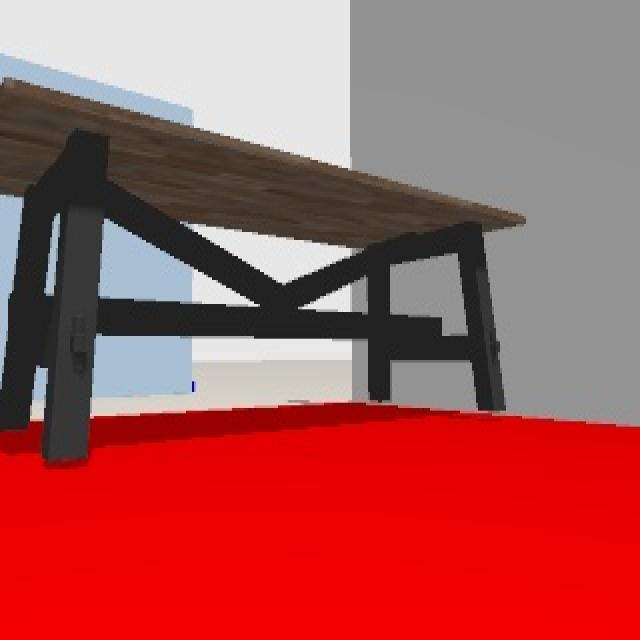dining: (1, 78, 519, 414)
